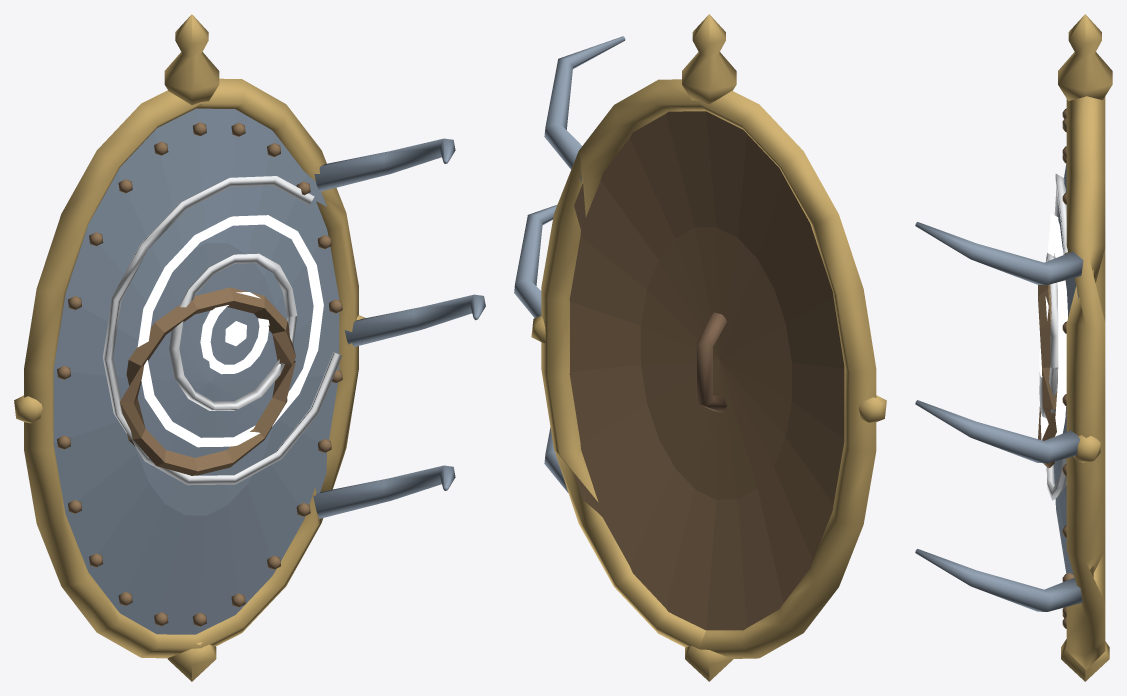
File: shield-turned-blow.glb
3 views of the same model, side by side, from view 1: azimuth 30°, elevation 25°; view 2: azimuth 150°, elevation 25°; view 3: azimuth 270°, elevation 25° (orthographic).
Visible parts, largest first — view 1: shield-turned-blow; view 2: shield-turned-blow; view 3: shield-turned-blow.
Boxes of the visible parts, <box> form: shield-turned-blow: <box>14,14,485,681</box>; shield-turned-blow: <box>514,14,886,681</box>; shield-turned-blow: <box>915,14,1112,681</box>.
Bounding box in the file's own units: 1.11 × 1.72 × 0.4598.
